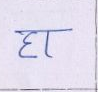aa_matra: (45, 32, 49, 56)
